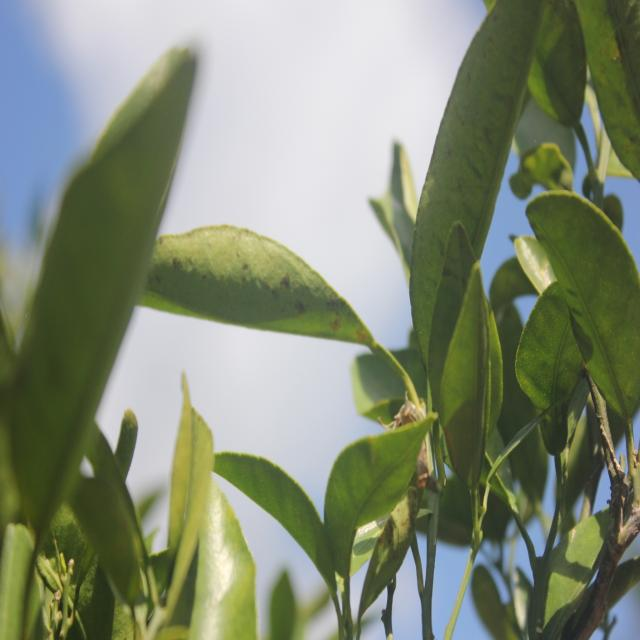melanose: (131, 214, 382, 361)
